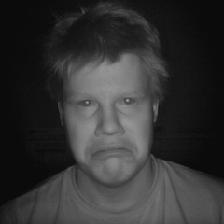sad: (36, 3, 183, 193)
